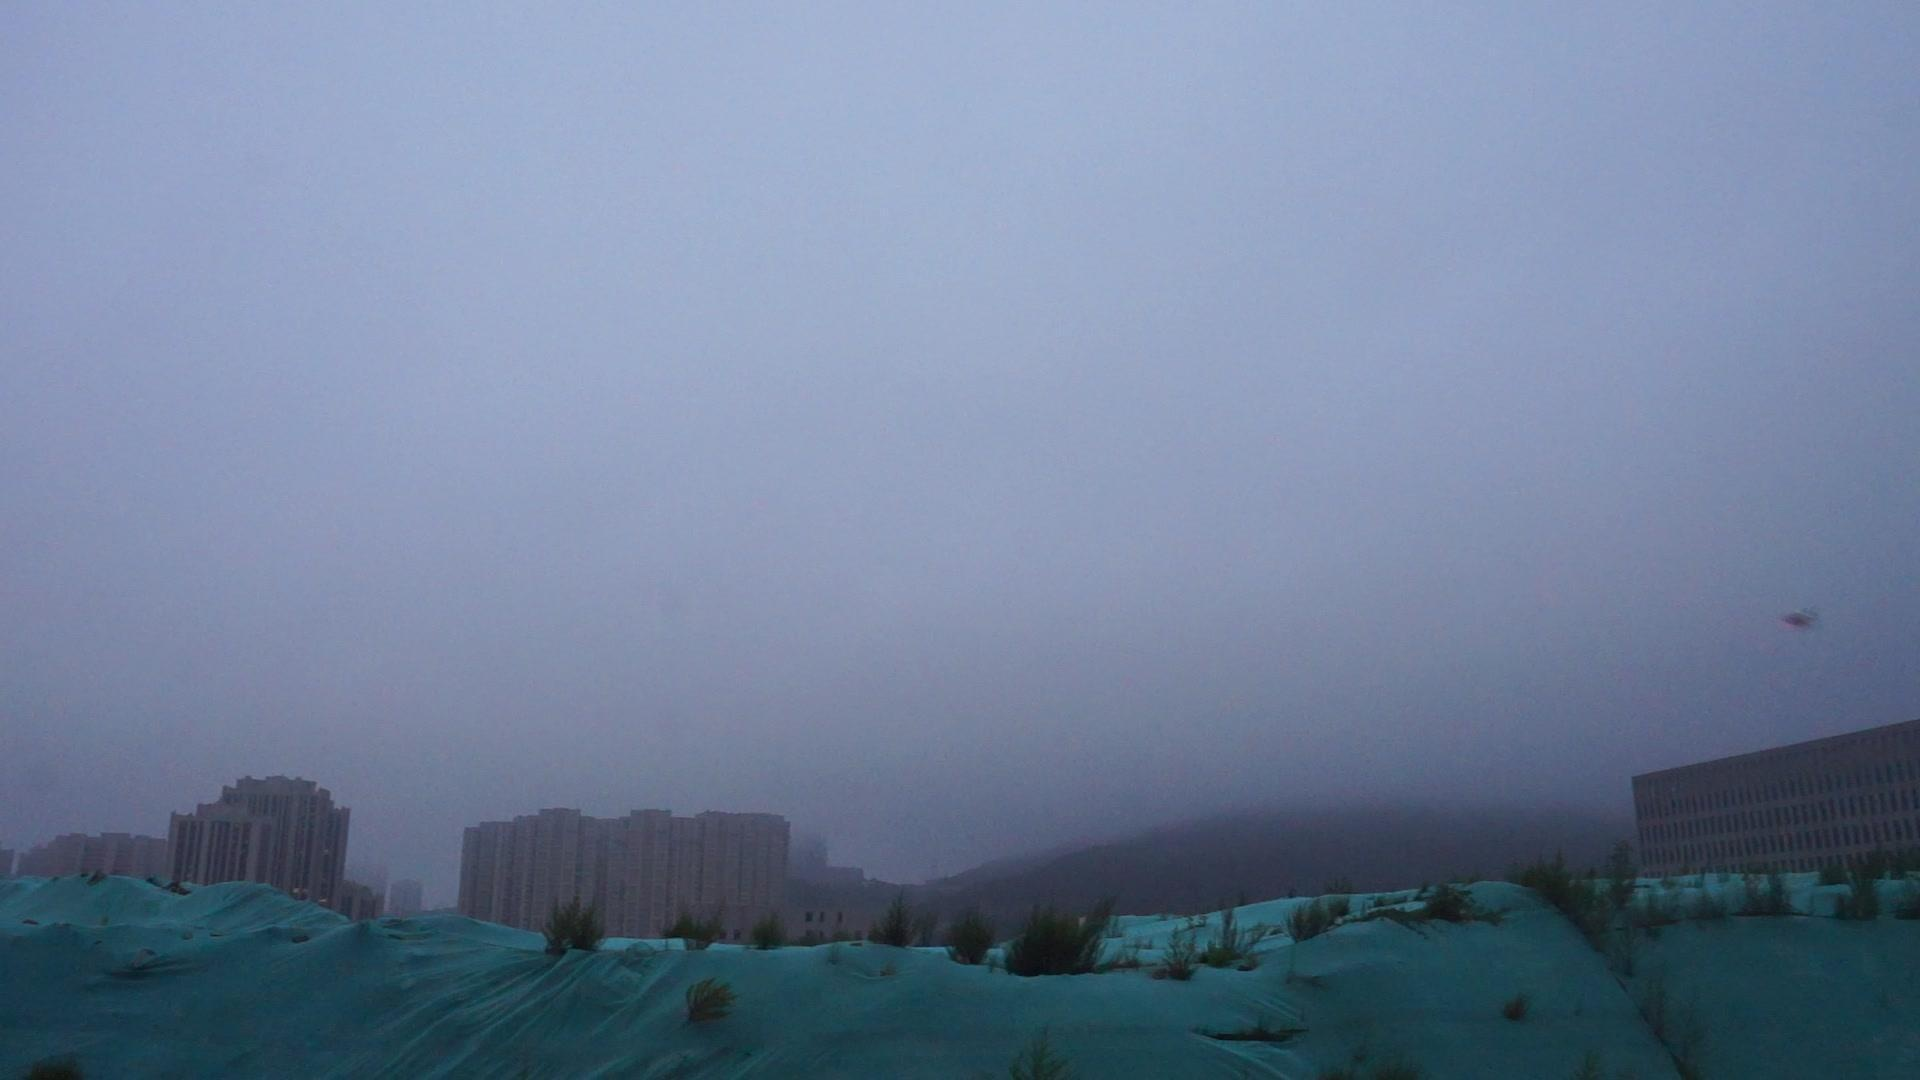UAV: (1782, 609, 1818, 630)
